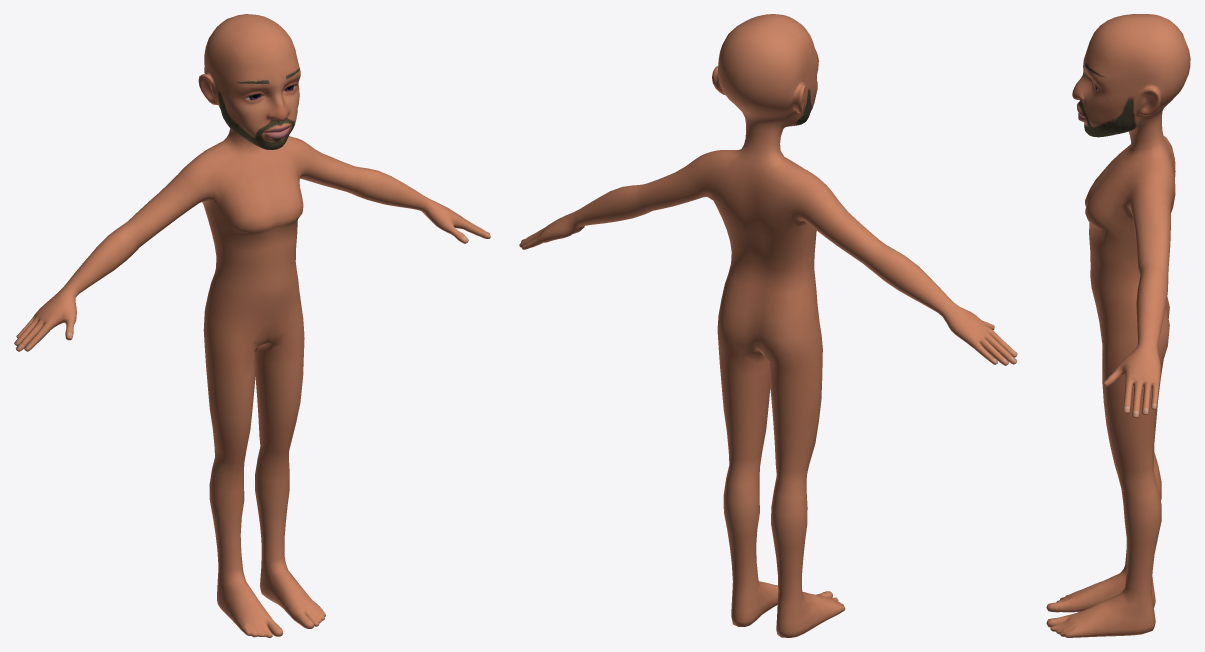
The model's file is frame_0014.glb.
3 renders of one model, left to right at view 1: azimuth 30°, elevation 25°; view 2: azimuth 150°, elevation 25°; view 3: azimuth 270°, elevation 25°, orthographic. The views are drawn at different scales.
Visible parts, largest first — view 1: frame_0014_head_geo; view 2: frame_0014_head_geo; view 3: frame_0014_head_geo.
Boxes of the visible parts, x1,y1,x2,y2 form: frame_0014_head_geo: (14,14,490,637); frame_0014_head_geo: (519,14,1017,637); frame_0014_head_geo: (1046,14,1190,637).
Size of the model in its own units: 1.28 by 1.5 by 0.3253.
Materials: 3 (3 with a texture image).
